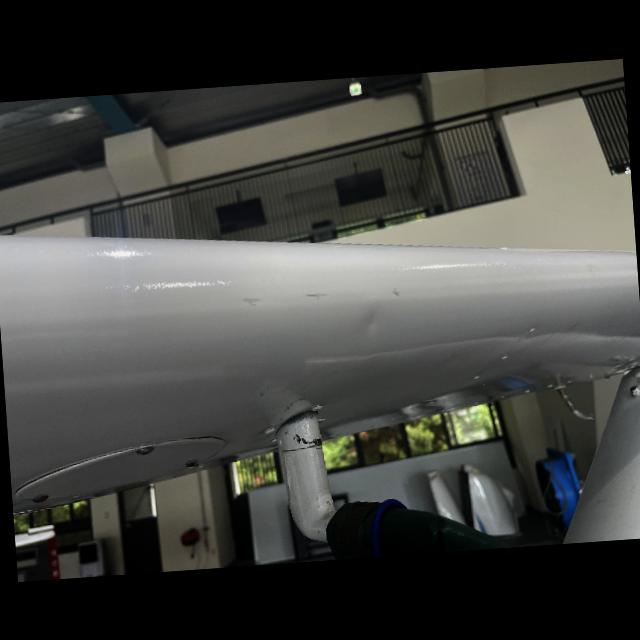Missing Fastener: (178, 457, 203, 470)
